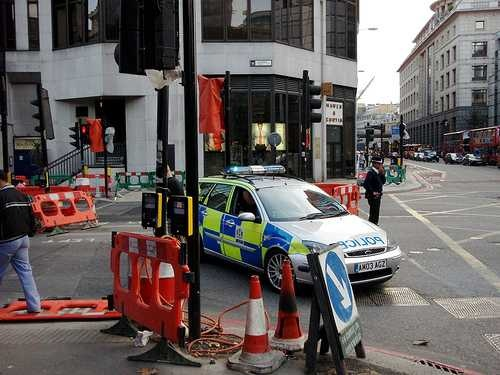Police Car: (173, 140, 402, 288)
